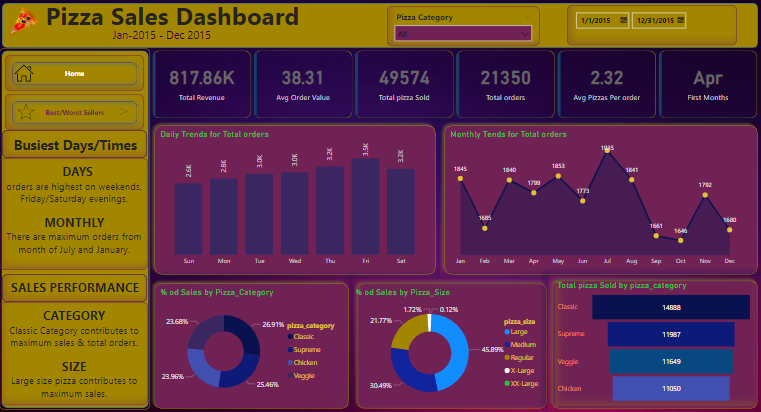

The page's visual inventory and layout, read from the dashboard file:
{"tool":"powerbi","page":{"name":"Home","canvas":[1500,820],"ordinal":0},"visuals":[{"type":"cardVisual","fields":{"Data":["pizza_sales.Total Revenue","pizza_sales.Avg Order Value","pizza_sales.Total pizza Sold","pizza_sales.Total orders","pizza_sales.Avg Pizzas Per order","Min(Calendar.Months)"]},"box":[296.9,102.2,1203.1,143.5],"z":0},{"type":"shape","box":[0,13.8,1492.1,88.6],"z":1000},{"type":"textbox","box":[87,0,513.8,98.8],"z":2000},{"type":"textbox","box":[217.4,57.3,225.3,39.5],"z":3000},{"type":"shape","box":[867,245.7,633,310.6],"z":4000},{"type":"shape","box":[296.9,245.7,570.1,310.6],"z":5000},{"type":"columnChart","title":"Daily Trends for Total orders","fields":{"Y":["pizza_sales.Total orders"],"Category":["Calendar.Day name"]},"box":[312.6,261.5,538.7,277.2],"z":6000},{"type":"areaChart","title":" Monthly Tends for Total orders","fields":{"Category":["Calendar.Months"],"Y":["pizza_sales.Total orders"]},"box":[882.7,261.5,578,277.2],"z":7000},{"type":"shape","box":[695.9,556.4,389.3,263.4],"z":8000},{"type":"shape","box":[1078.7,551.2,407.5,261.8],"z":9000},{"type":"shape","box":[296.9,556.4,399.1,263.4],"z":10000},{"type":"donutChart","title":"% od Sales  by Pizza_Category","fields":{"Y":["pizza_sales.Total Revenue"],"Category":["pizza_sales.pizza_category"]},"box":[312.6,572.1,367.6,233.9],"z":11000},{"type":"donutChart","title":"% od Sales  by Pizza_Size","fields":{"Y":["pizza_sales.Total Revenue"],"Category":["pizza_sales.pizza_size"]},"box":[696.9,572.8,381.9,240.2],"z":12000},{"type":"funnel","fields":{"Category":["pizza_sales.pizza_category"],"Y":["pizza_sales.Total pizza Sold"]},"box":[1092.5,559.1,393.7,246.1],"z":13000},{"type":"shape","box":[0,102.4,297.2,710.6],"z":14000},{"type":"textbox","box":[5.9,263.8,285.4,55.1],"z":15000},{"type":"textbox","box":[0,602.4,293.3,202.8],"z":16000},{"type":"textbox","box":[5.9,547.2,285.4,55.1],"z":17000},{"type":"textbox","box":[0,318.9,293.3,220.5],"z":18000},{"type":"slicer","fields":{"Values":["Calendar.Date"]},"box":[1063,19.7,334.6,78.7],"z":19000},{"type":"image","box":[5.9,9.9,87,79.1],"z":20000},{"type":"pageNavigator","box":[11.9,116.6,272.7,71.1],"z":21000},{"type":"pageNavigator","box":[11.9,191.7,272.7,71.1],"z":22000},{"type":"image","box":[25.7,116.6,47.4,71.1],"z":23000},{"type":"image","box":[25.7,205.5,55.3,41.5],"z":24000},{"type":"image","box":[203.6,199.6,81,53.4],"z":25000},{"type":"slicer","fields":{"Values":["pizza_sales.pizza_category"]},"box":[762.8,19.8,300.4,79.1],"z":26000}]}

Visuals, with their boxes in screenshot pixels (x1, y1, x2, y2), scaled from the page's 1500x820 canvas onto the 761x412 screenshot:
cardVisual - pizza_sales.Total Revenue x pizza_sales.Avg Order Value: pyautogui.locateOnScreen(151, 51, 760, 123)
shape: pyautogui.locateOnScreen(0, 7, 757, 51)
textbox: pyautogui.locateOnScreen(44, 0, 305, 50)
textbox: pyautogui.locateOnScreen(110, 29, 225, 49)
shape: pyautogui.locateOnScreen(440, 123, 760, 280)
shape: pyautogui.locateOnScreen(151, 123, 440, 280)
"Daily Trends for Total orders" columnChart: pyautogui.locateOnScreen(159, 131, 432, 271)
" Monthly Tends for Total orders" areaChart: pyautogui.locateOnScreen(448, 131, 741, 271)
shape: pyautogui.locateOnScreen(353, 280, 551, 411)
shape: pyautogui.locateOnScreen(547, 277, 754, 408)
shape: pyautogui.locateOnScreen(151, 280, 353, 411)
"% od Sales  by Pizza_Category" donutChart: pyautogui.locateOnScreen(159, 287, 345, 405)
"% od Sales  by Pizza_Size" donutChart: pyautogui.locateOnScreen(354, 288, 547, 408)
funnel - pizza_sales.pizza_category x pizza_sales.Total pizza Sold: pyautogui.locateOnScreen(554, 281, 754, 405)
shape: pyautogui.locateOnScreen(0, 51, 151, 408)
textbox: pyautogui.locateOnScreen(3, 133, 148, 160)
textbox: pyautogui.locateOnScreen(0, 303, 149, 405)
textbox: pyautogui.locateOnScreen(3, 275, 148, 303)
textbox: pyautogui.locateOnScreen(0, 160, 149, 271)
slicer - Calendar.Date: pyautogui.locateOnScreen(539, 10, 709, 49)
image: pyautogui.locateOnScreen(3, 5, 47, 45)
pageNavigator: pyautogui.locateOnScreen(6, 59, 144, 94)
pageNavigator: pyautogui.locateOnScreen(6, 96, 144, 132)
image: pyautogui.locateOnScreen(13, 59, 37, 94)
image: pyautogui.locateOnScreen(13, 103, 41, 124)
image: pyautogui.locateOnScreen(103, 100, 144, 127)
slicer - pizza_sales.pizza_category: pyautogui.locateOnScreen(387, 10, 539, 50)
